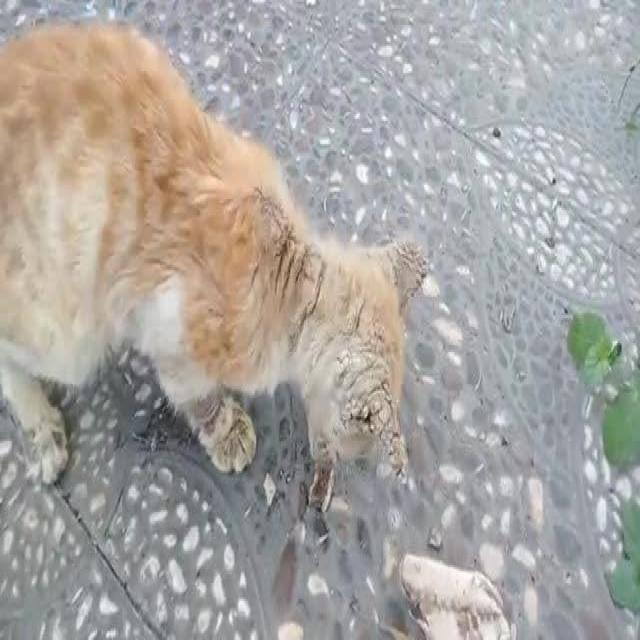ghe: (340, 357, 410, 480), (369, 249, 430, 301)
